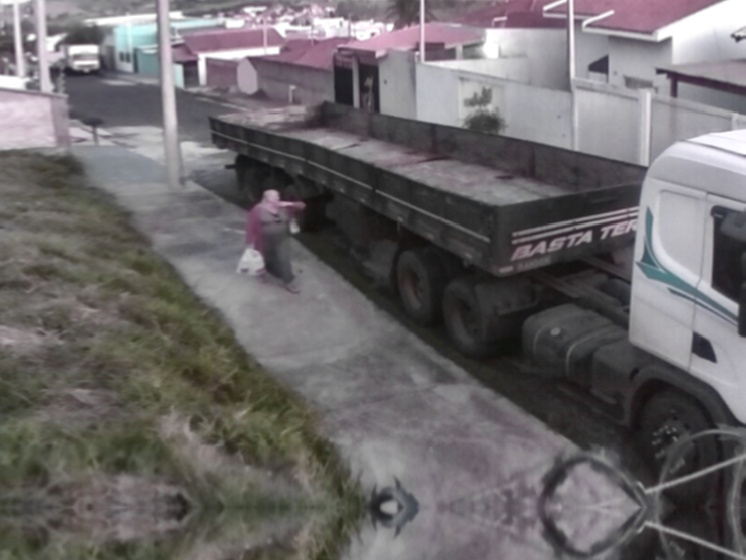person: (239, 187, 307, 297)
